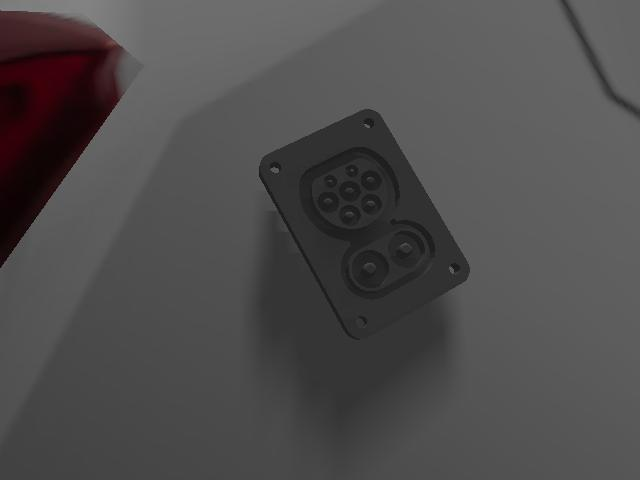EV-socket: (259, 110, 469, 339)
